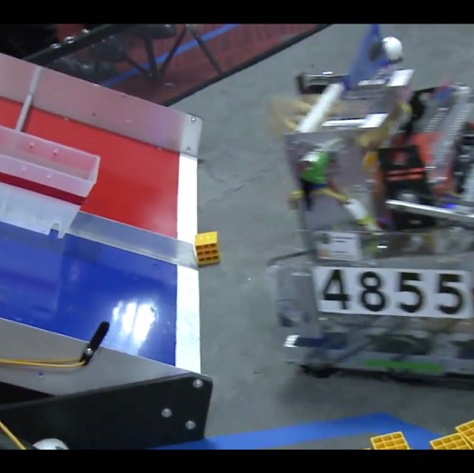robot: (271, 30, 474, 398)
